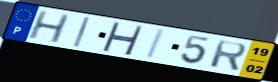5: (178, 34, 214, 65)
H: (100, 21, 145, 57), (25, 10, 71, 45)
I: (144, 28, 167, 60), (72, 16, 92, 49)
R: (208, 39, 249, 73)
